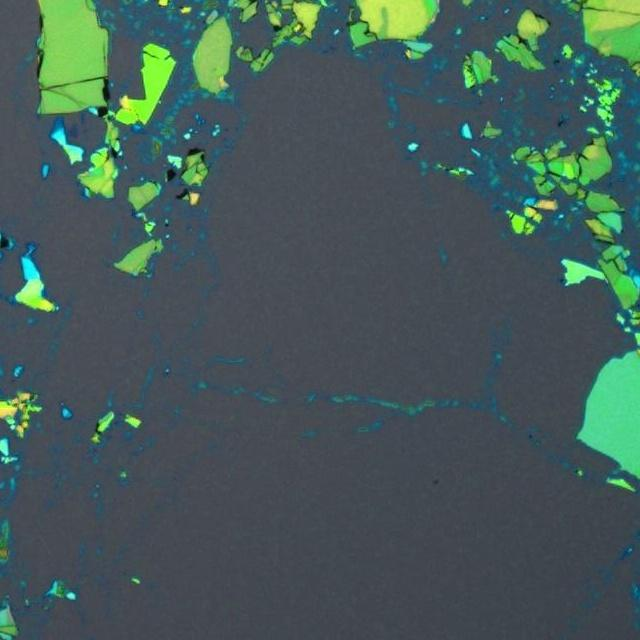monolayer-eWW4: (66, 122, 78, 138)
